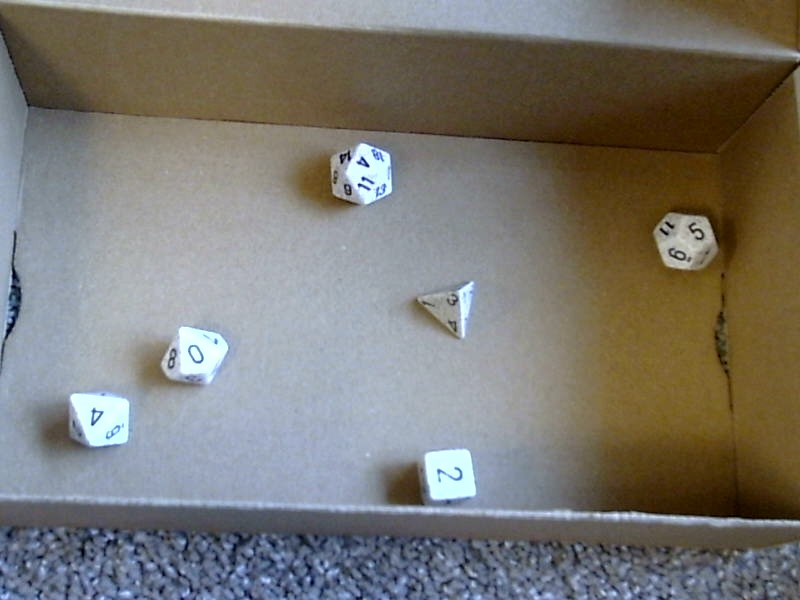d10 10: (153, 322, 232, 388)
d12 5: (645, 202, 728, 283)
d20 4: (319, 138, 404, 212)
d4 3: (409, 275, 481, 351)
d6 2: (412, 442, 486, 510)
d8 4: (60, 388, 131, 455)
